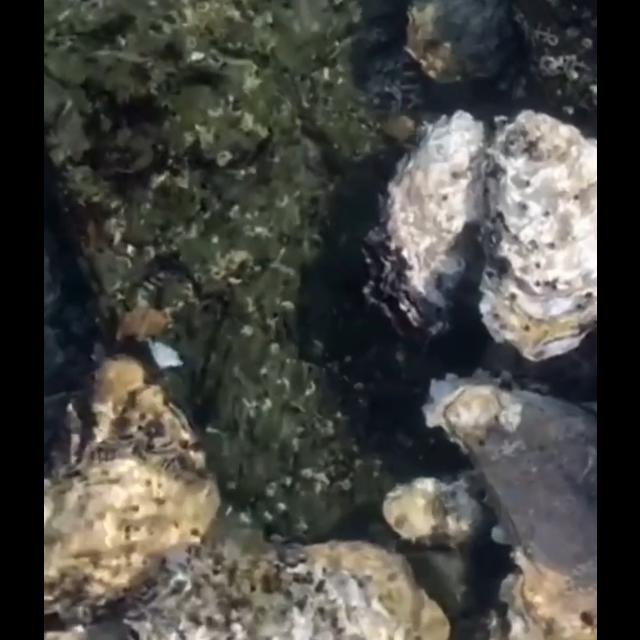Oyster-Closed: (43, 350, 227, 640), (419, 367, 596, 640), (123, 539, 450, 640), (478, 108, 596, 362), (402, 0, 514, 86), (382, 472, 488, 546)
Oyster-Open: (359, 106, 489, 340)
